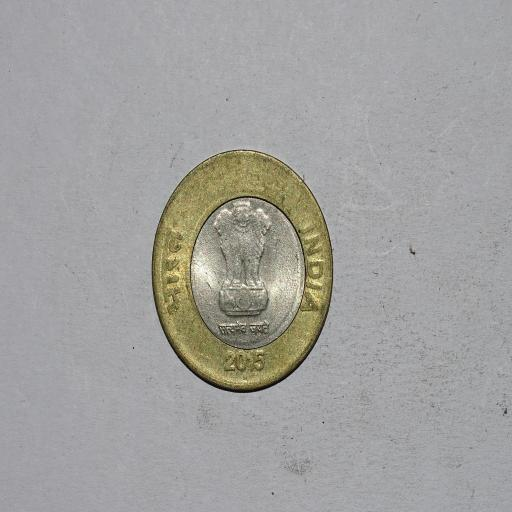rupee10: (145, 147, 337, 400)
